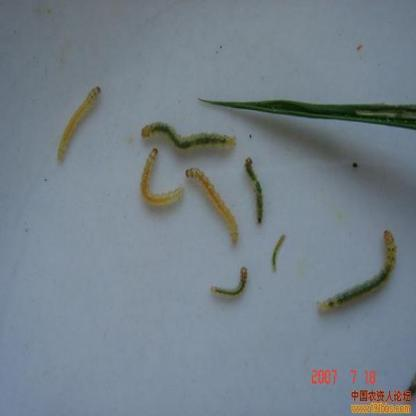leaf-folder: (315, 216, 415, 318), (182, 159, 245, 251), (138, 113, 242, 156), (55, 78, 105, 166), (229, 142, 274, 232), (136, 145, 181, 219), (263, 215, 294, 281), (207, 262, 251, 302)
